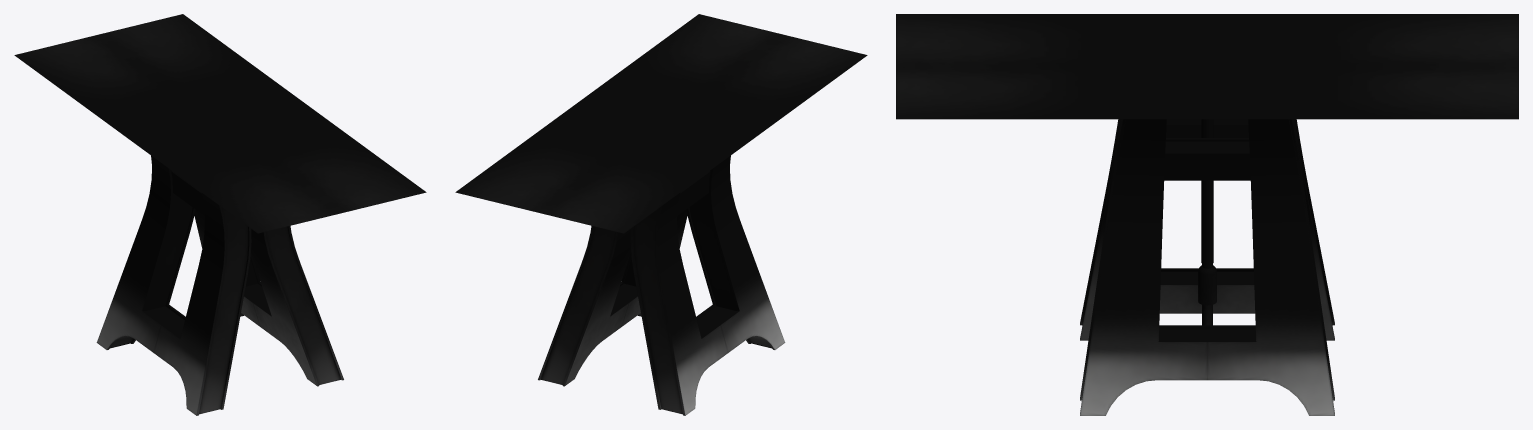
Rendered from bogie.obj.
The picture shows the model from 3 angles, left to right: view 1: azimuth 30°, elevation 25°; view 2: azimuth 150°, elevation 25°; view 3: azimuth 270°, elevation 25°; orthographic projection. The views are drawn at different scales.
Visible parts, largest first — view 1: Plane, Ver._2, Ver._1, Ver._4, Ver._3, Hor._1; view 2: Plane, Ver._1, Ver._2, Ver._3, Ver._4, Hor._1; view 3: Plane, Ver._3, Ver._4, Hor._2, Ver._1, Ver._2, Rope_cover, Hor._1.
Part boxes in pixels (box(x1,y1,x2,y2)): Plane: box(14, 14, 426, 233); Ver._2: box(154, 193, 251, 415); Ver._1: box(96, 155, 195, 352); Ver._4: box(251, 225, 343, 386); Ver._3: box(194, 209, 266, 326); Hor._1: box(171, 171, 204, 215); Plane: box(455, 14, 867, 233); Ver._1: box(630, 193, 727, 415); Ver._2: box(686, 155, 785, 352); Ver._3: box(538, 225, 630, 386); Ver._4: box(615, 209, 687, 326); Hor._1: box(677, 171, 710, 215); Plane: box(896, 14, 1518, 119); Ver._3: box(1207, 119, 1334, 415); Ver._4: box(1080, 119, 1207, 415); Hor._2: box(1164, 138, 1250, 180); Ver._1: box(1213, 119, 1334, 340); Ver._2: box(1080, 119, 1201, 340); Rope_cover: box(1198, 119, 1216, 305); Hor._1: box(1166, 119, 1248, 137).
Size of the model in its own units: 0.8 by 1.08 by 2.
Materials: 1 (1 with a texture image).
